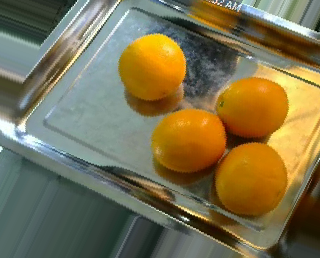Orange: (214, 141, 287, 215), (150, 107, 228, 173), (215, 77, 292, 138), (119, 33, 187, 100)
